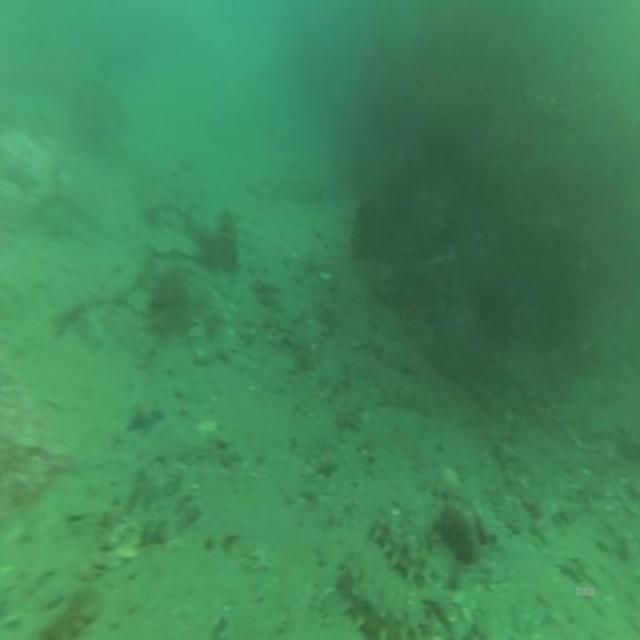echinus: (332, 559, 412, 640), (372, 512, 444, 586)
starfish: (127, 390, 165, 442)
